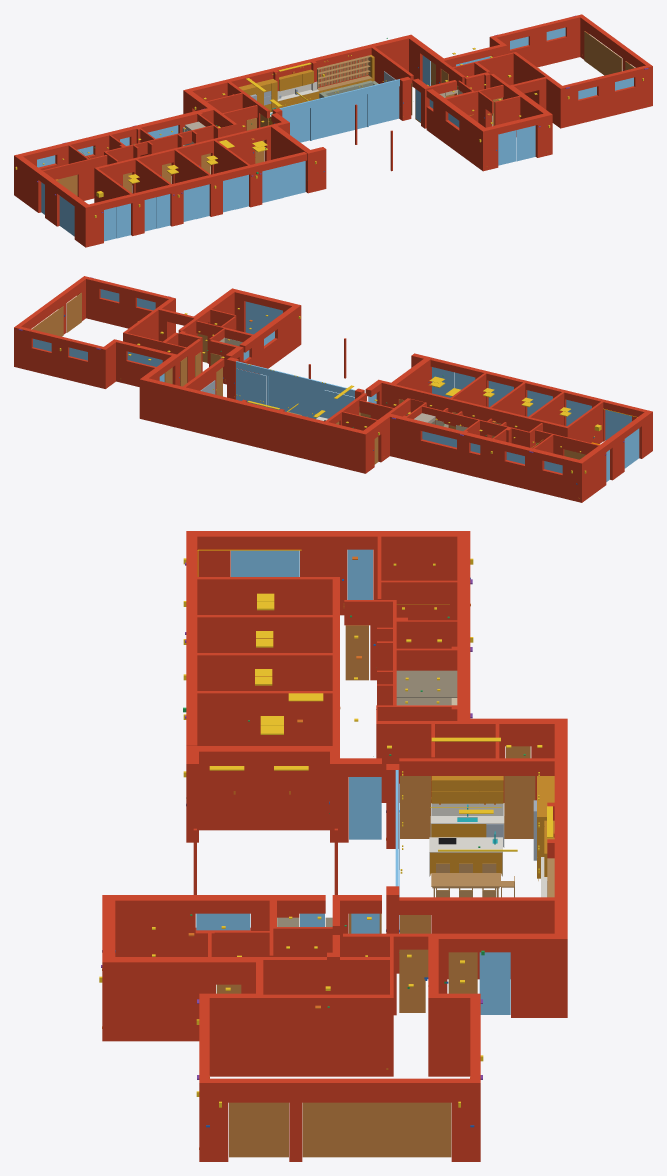
Rendered from ground_floor.glb.
3 renders of one model, top to bottom at view 1: azimuth 30°, elevation 25°; view 2: azimuth 150°, elevation 25°; view 3: azimuth 270°, elevation 25°, orthographic. The views are drawn at different scales.
Visible parts, largest first — view 1: masonry__W-002__, masonry__W-005__, masonry__W-029__, masonry__W-013__, masonry__W-030__, masonry__W-054__, masonry__W-026__, masonry__W-027__, glazing__WIN-OP28__, glazing__WIN-OP21__ (×2), masonry__W-001__, masonry__W-067__ (+37 smaller); view 2: masonry__W-029__, masonry__W-026__, masonry__W-027__, masonry__W-005__, masonry__W-030__, masonry__W-013__, masonry__W-054__, masonry__W-002__, glazing__WIN-OP28__, masonry__W-025__, masonry__W-067__, masonry__W-022__ (+31 smaller); view 3: masonry__W-049__, masonry__W-066__, masonry__W-067__, masonry__W-063__, masonry__W-030__, door__D-OP50__, masonry__W-054__, masonry__W-044__, masonry__W-060__, masonry__W-056__, masonry__W-034__, masonry__W-041__ (+41 smaller).
Part boxes in pixels (<box>): masonry__W-002__: <box>89,152,307,245</box>; masonry__W-005__: <box>558,65,648,128</box>; masonry__W-029__: <box>183,34,413,113</box>; masonry__W-013__: <box>94,125,270,202</box>; masonry__W-030__: <box>17,156,91,247</box>; masonry__W-054__: <box>426,89,488,171</box>; masonry__W-026__: <box>14,107,216,197</box>; masonry__W-027__: <box>489,15,580,67</box>; glazing__WIN-OP28__: <box>312,94,367,140</box>; glazing__WIN-OP21__ (×2): <box>262,161,305,202</box>; masonry__W-001__: <box>485,113,546,169</box>; masonry__W-067__: <box>578,14,652,106</box>; masonry__W-029__: <box>139,377,368,473</box>; masonry__W-026__: <box>385,413,585,502</box>; masonry__W-027__: <box>18,326,107,388</box>; masonry__W-005__: <box>86,277,175,333</box>; masonry__W-030__: <box>580,410,652,500</box>; masonry__W-013__: <box>394,384,569,437</box>; masonry__W-054__: <box>239,304,301,374</box>; masonry__W-002__: <box>430,358,646,441</box>; glazing__WIN-OP28__: <box>268,376,322,418</box>; masonry__W-025__: <box>112,339,173,386</box>; masonry__W-067__: <box>14,276,88,367</box>; masonry__W-022__: <box>422,406,530,447</box>; masonry__W-049__: <box>186,746,339,830</box>; masonry__W-066__: <box>263,994,393,1076</box>; masonry__W-067__: <box>199,1078,480,1161</box>; masonry__W-063__: <box>102,957,263,1041</box>; masonry__W-030__: <box>186,531,457,615</box>; door__D-OP50__: <box>302,1102,451,1157</box>; masonry__W-054__: <box>102,895,325,956</box>; masonry__W-044__: <box>197,691,332,745</box>; masonry__W-060__: <box>428,933,554,1017</box>; masonry__W-056__: <box>399,897,554,979</box>; masonry__W-034__: <box>197,615,332,652</box>; masonry__W-041__: <box>197,653,332,690</box>.
Bounding box in the file's own units: 45.25 × 4.87 × 16.15.
